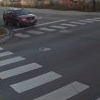crosswalk: (0, 47, 90, 100), (14, 17, 100, 38)
